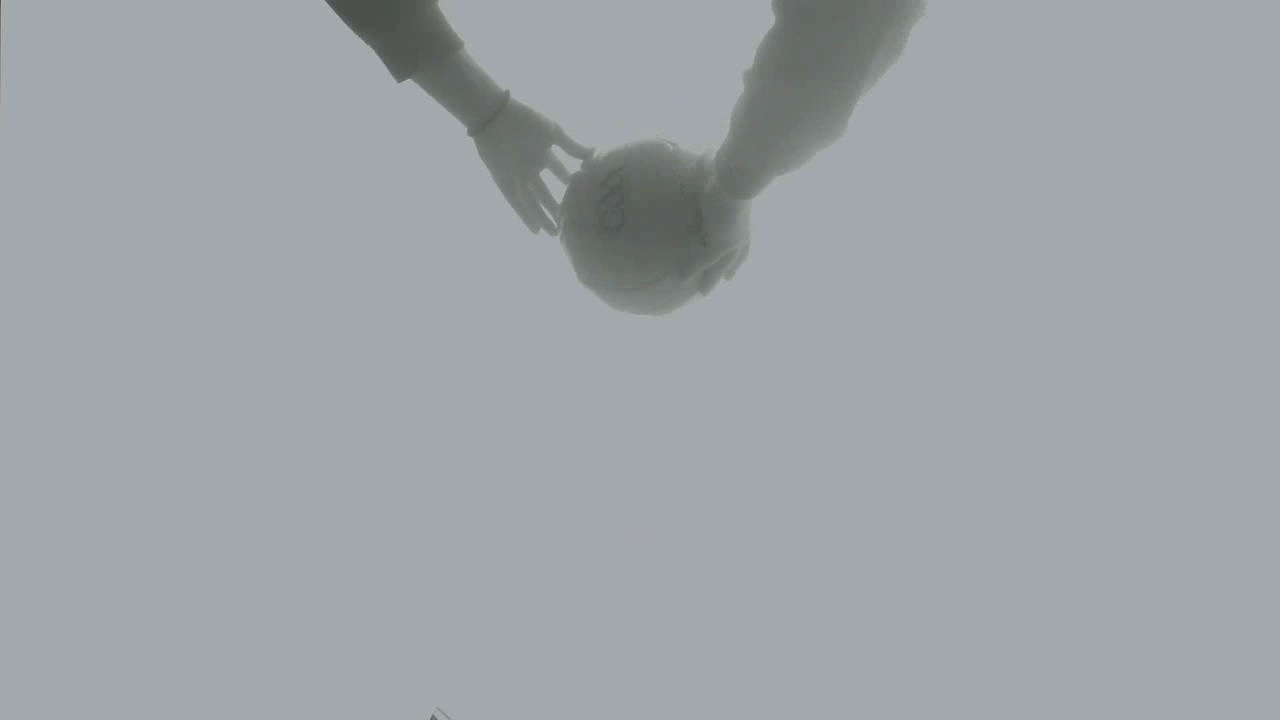Football-Spotter: (560, 139, 749, 313)
